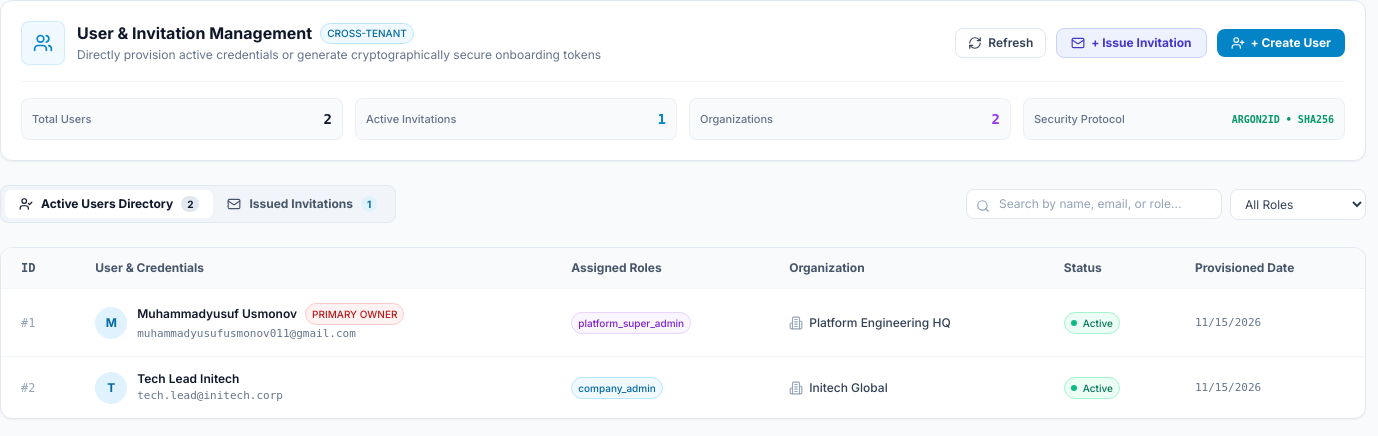
UserAndInvitationManagementSection Component › filters users directory by search query and role filter
Expected: the text "Muhammadyusuf Usmonov" is shown, [137, 306, 297, 322]
Type "Initech" into the field with placeholder "Search by name, email, or role..." at coordinates (1094, 204), box [966, 189, 1222, 219]
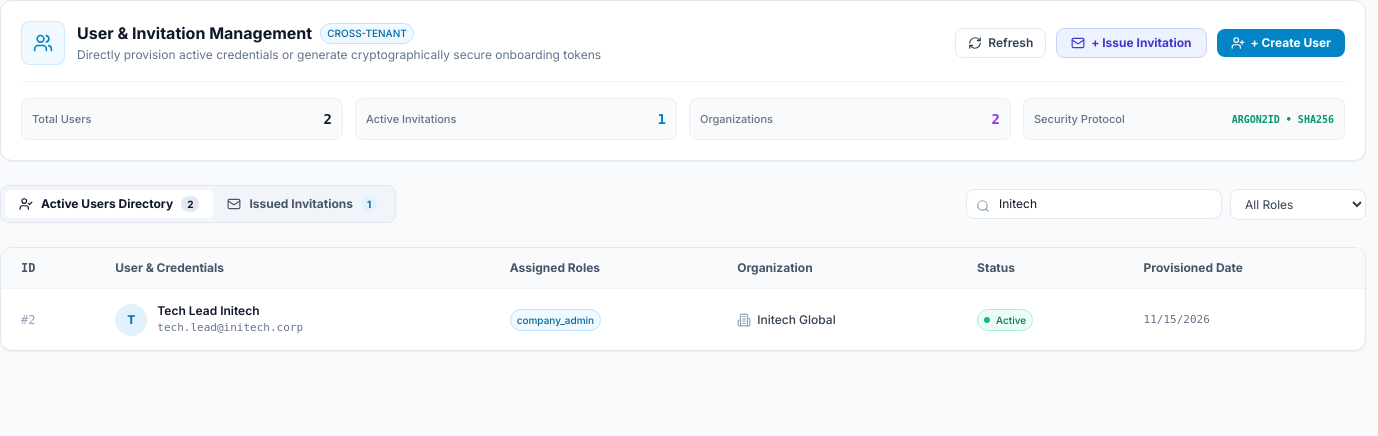
Expected: the text "Tech Lead Initech" is shown, [157, 303, 260, 319]
Result: the text "Muhammadyusuf Usmonov" is gone
